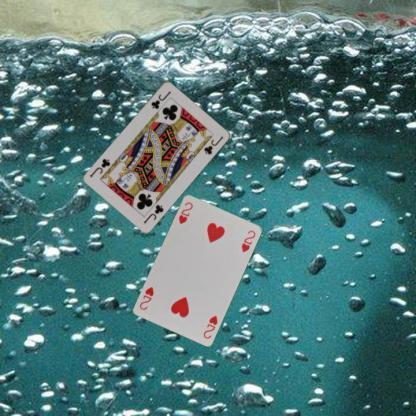2h: (201, 312, 219, 340), (176, 199, 194, 224)
Jc: (142, 201, 165, 224), (148, 89, 172, 110)
